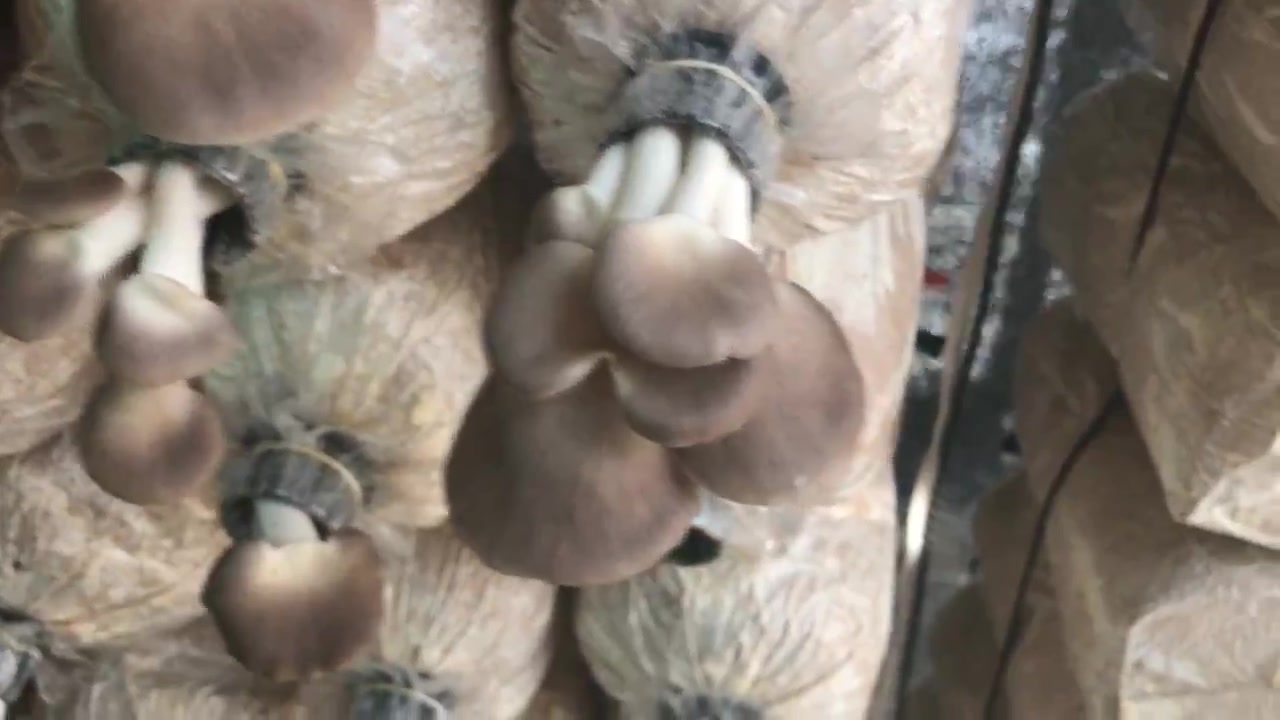nam: (446, 60, 867, 581), (1, 142, 290, 503), (77, 1, 377, 140), (202, 451, 382, 680)
